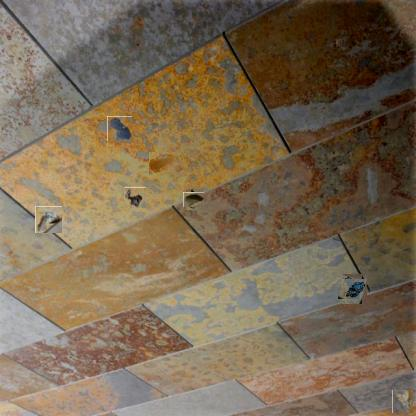dirty: (35, 206, 62, 233), (340, 277, 365, 301), (392, 390, 414, 413), (125, 187, 146, 208), (185, 191, 202, 209)
liquid: (150, 152, 186, 174), (107, 116, 132, 141)
